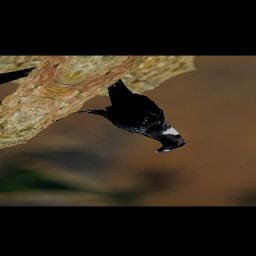Crow: (37, 77, 244, 156)
